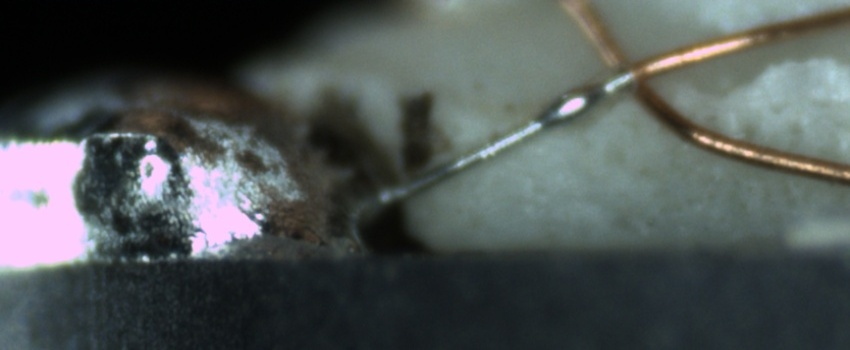CL: (591, 37, 674, 110)
TB: (542, 85, 597, 131)
TS: (363, 66, 635, 216)
TTCW: (363, 44, 703, 213)
